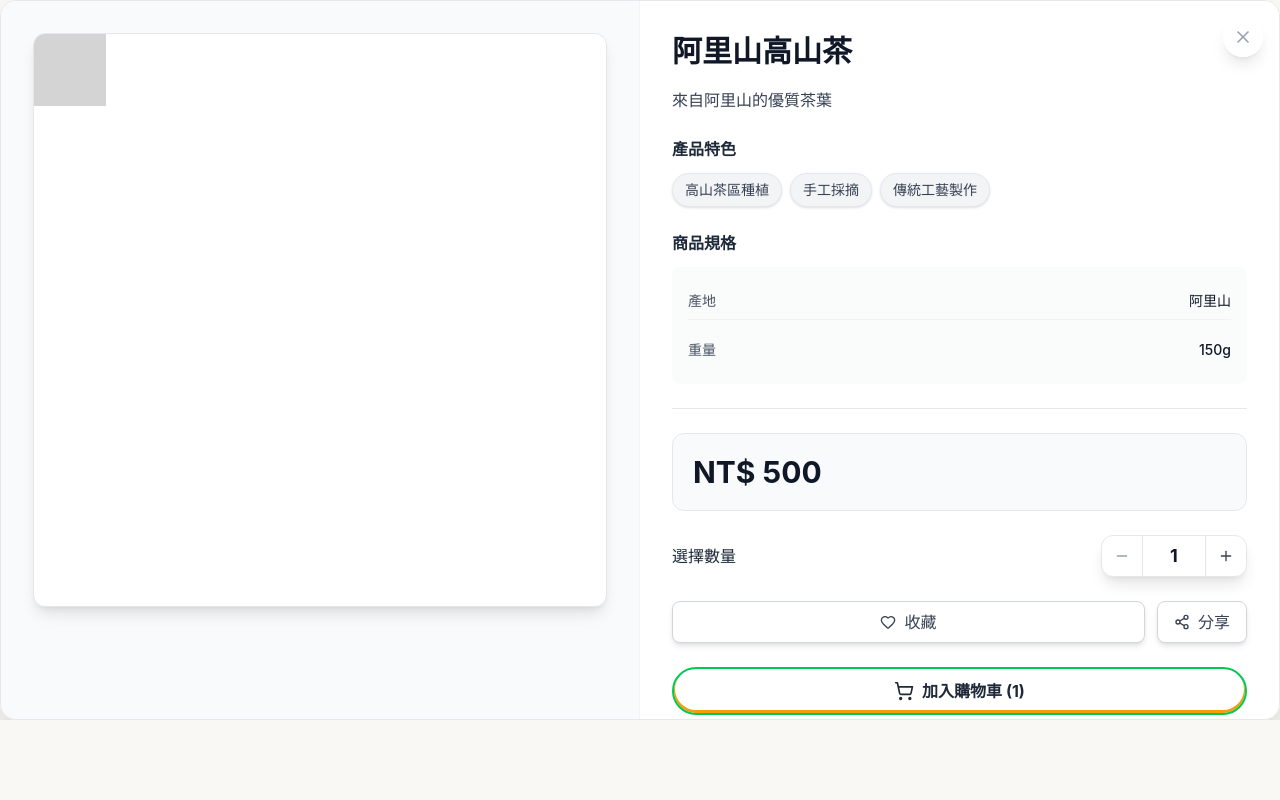
Scenario: ProductDetailModal › 數量選擇器 › 點擊減少按鈕應該減少數量
Click the button named "增加數量": [1226, 556] box [1206,536,1246,576]
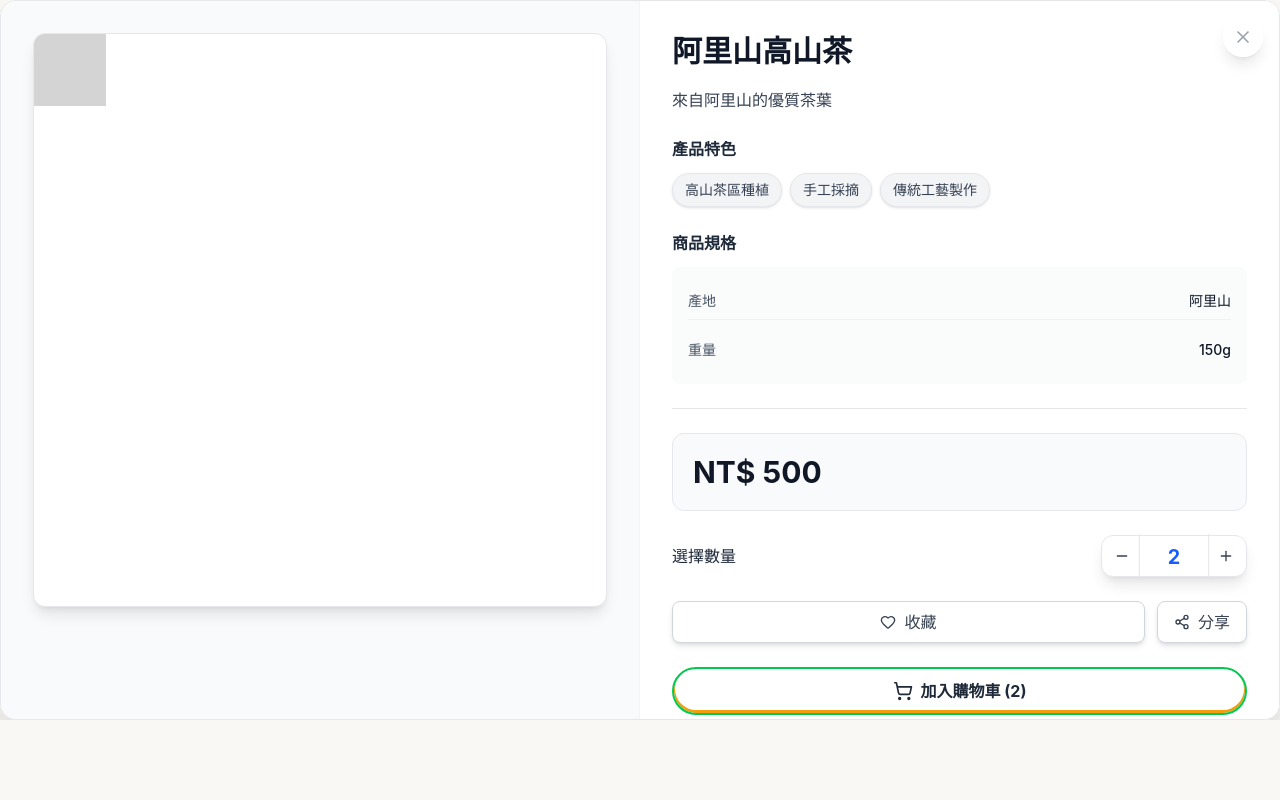
Click the button named "減少數量": [1122, 556] box [1102,536,1142,576]
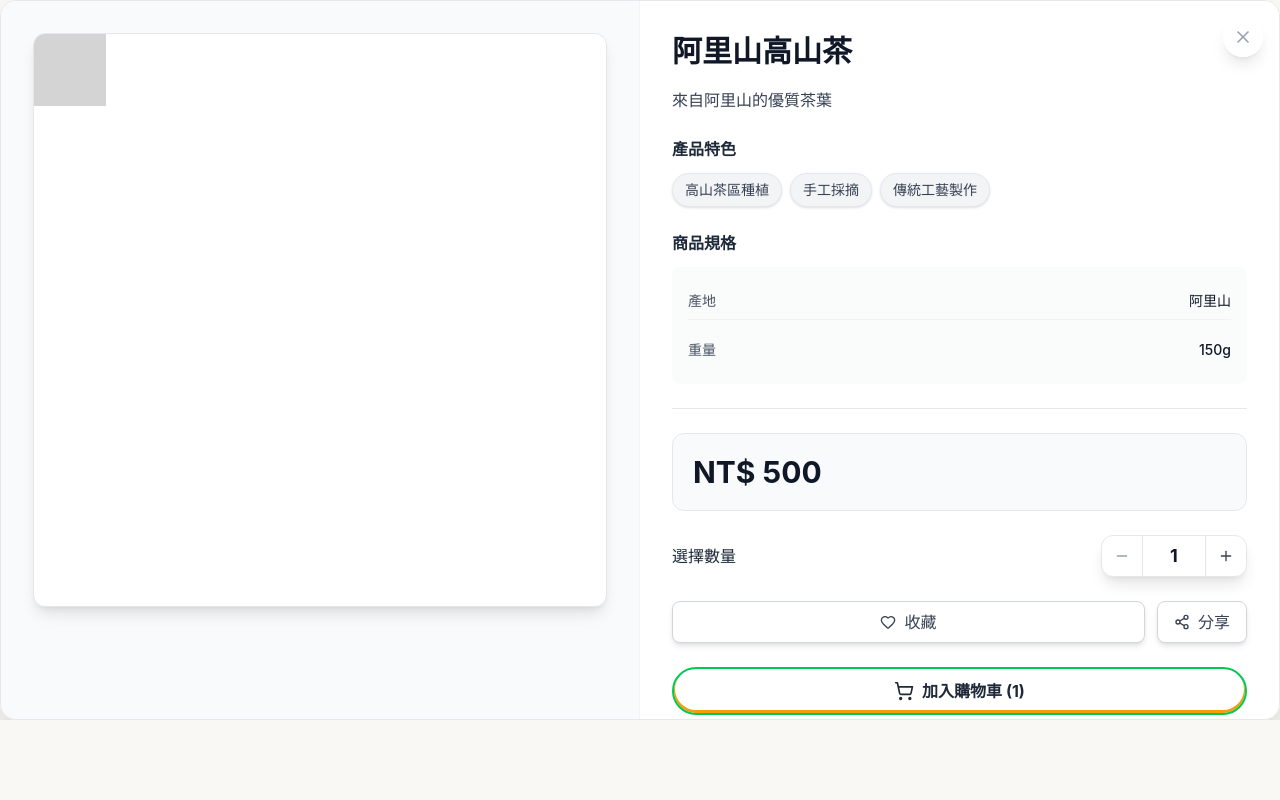
Now the number field named "產品數量" holds "1", box [1142,536,1206,576]
